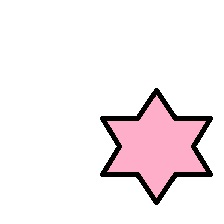star: (100, 88, 213, 205)
